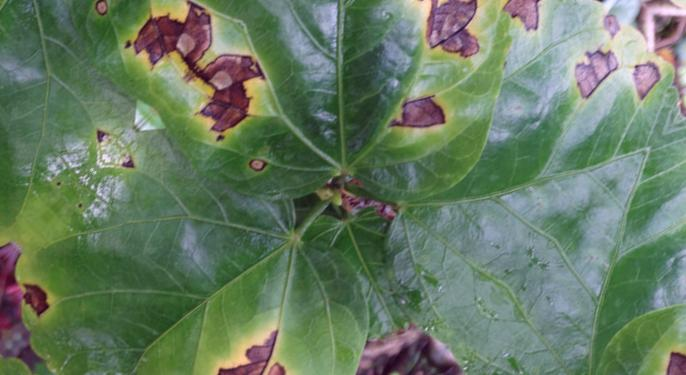Tomato Septoria leaf spot: (147, 0, 603, 294), (0, 89, 420, 375)
